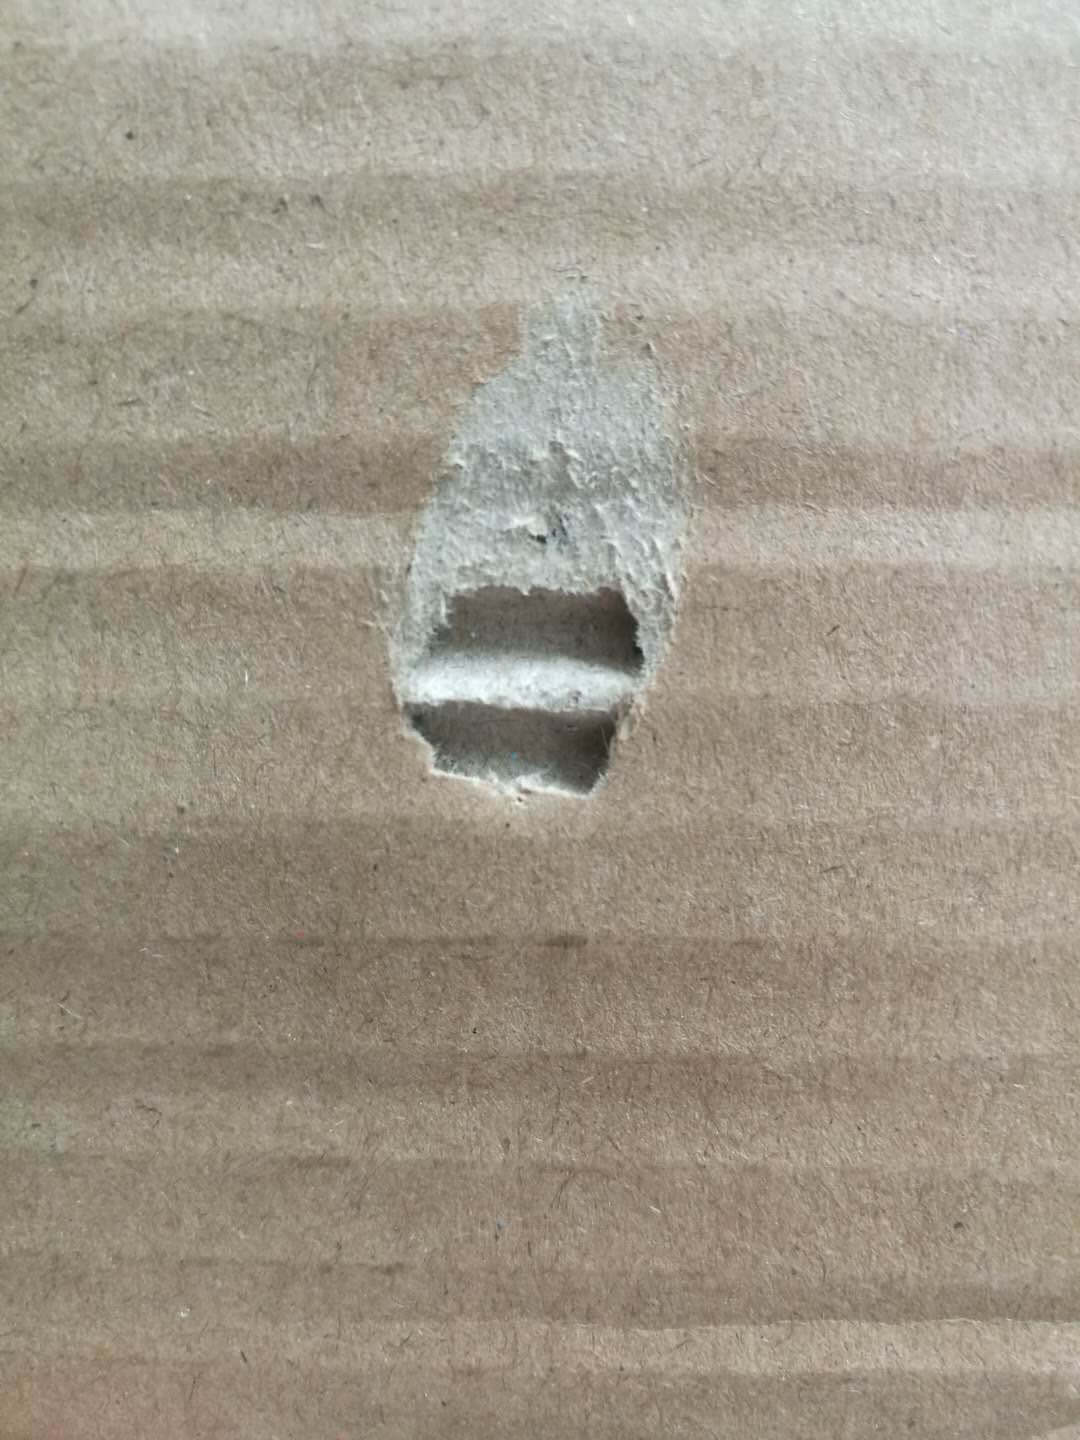defect: (337, 259, 746, 845)
